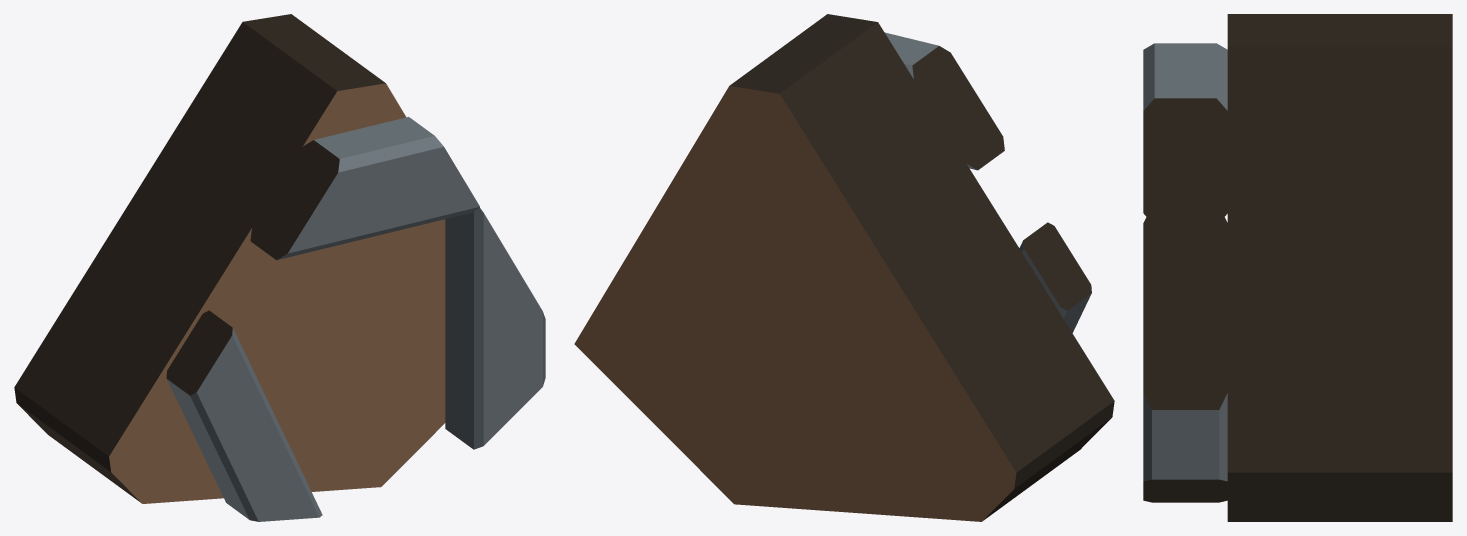
Rendered from SM_DoorShard_01_30.fbx.
3 views of the same model, side by side, from view 1: azimuth 30°, elevation 25°; view 2: azimuth 150°, elevation 25°; view 3: azimuth 270°, elevation 25° (orthographic). The views are drawn at different scales.
Visible parts, largest first — view 1: SM_DoorShard_01_30; view 2: SM_DoorShard_01_30; view 3: SM_DoorShard_01_30.
Part boxes in pixels (x1,y1,x2,y2): SM_DoorShard_01_30: (14, 14, 545, 521); SM_DoorShard_01_30: (574, 14, 1114, 521); SM_DoorShard_01_30: (1143, 14, 1452, 521).
Size of the model in its own units: 41.6 by 22 by 37.9.
